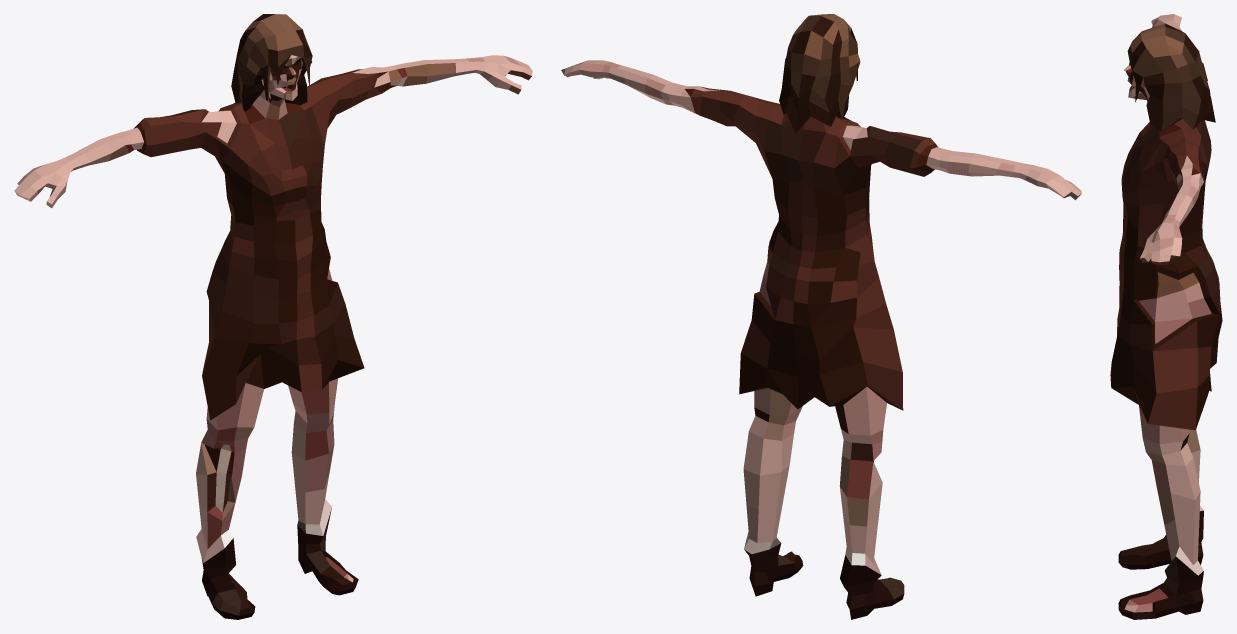
File: lpFemale_zombie_A-model.fbx
The picture shows the model from 3 angles, left to right: view 1: azimuth 30°, elevation 25°; view 2: azimuth 150°, elevation 25°; view 3: azimuth 270°, elevation 25°; orthographic projection. The views are drawn at different scales.
Parts seen in each view (by area): view 1: lpFemale_zombie_A; view 2: lpFemale_zombie_A; view 3: lpFemale_zombie_A.
Boxes of the visible parts, left/top/right/bottom form: lpFemale_zombie_A: left=14, top=14, right=532, bottom=619; lpFemale_zombie_A: left=561, top=14, right=1081, bottom=619; lpFemale_zombie_A: left=1110, top=14, right=1222, bottom=619.
Bounding box in the file's own units: 154 × 165 × 29.79.
Materials: 1 (1 with a texture image).
